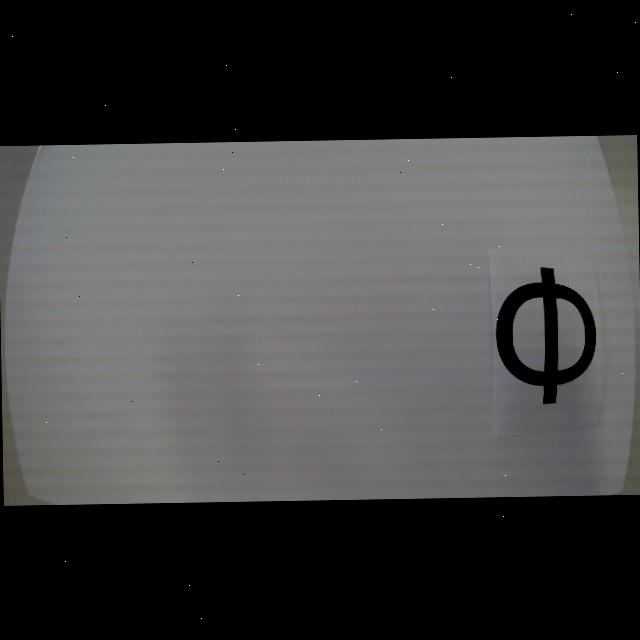PHI: (496, 266, 598, 406)
